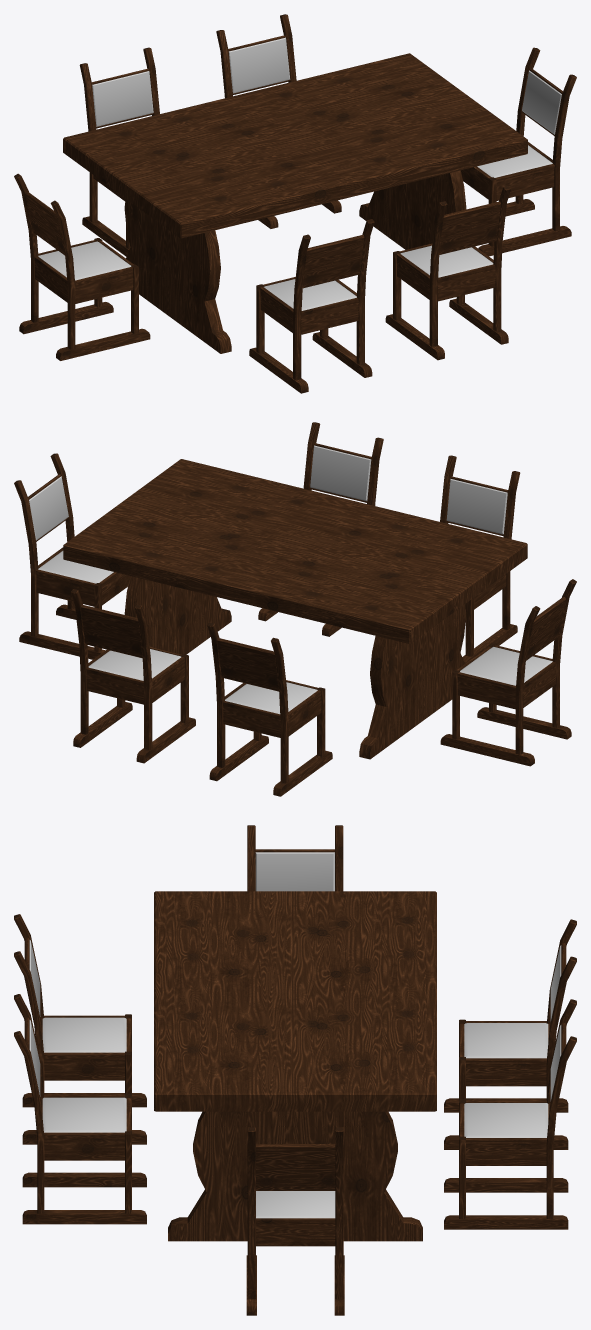
File: Table.fbx
3 renders of one model, top to bottom at view 1: azimuth 30°, elevation 25°; view 2: azimuth 150°, elevation 25°; view 3: azimuth 270°, elevation 25°, orthographic. The views are drawn at different scales.
Visible parts, largest first — view 1: Стол, Стул, Стул.001, Стул.004, Стул.005, Стул.003, Стул.002; view 2: Стол, Стул.003, Стул.002, Стул.004, Стул.005, Стул, Стул.001; view 3: Стол, Стул.001, Стул.002, Стул.005, Стул, Стул.003, Стул.004.
Part boxes in pixels (x1,y1,x2,y2): Стол: (63, 53, 527, 353); Стул: (249, 219, 374, 393); Стул.001: (385, 185, 510, 360); Стул.004: (14, 173, 150, 360); Стул.005: (461, 47, 576, 256); Стул.003: (79, 47, 159, 256); Стул.002: (216, 14, 341, 228); Стол: (63, 459, 527, 759); Стул.003: (207, 622, 332, 796); Стул.002: (71, 589, 195, 763); Стул.004: (440, 579, 576, 766); Стул.005: (14, 453, 130, 659); Стул: (440, 455, 520, 663); Стул.001: (258, 422, 383, 636); Стол: (154, 891, 436, 1241); Стул.001: (14, 994, 146, 1224); Стул.002: (444, 999, 576, 1229); Стул.005: (246, 1127, 344, 1315); Стул: (14, 914, 146, 1144); Стул.003: (444, 919, 576, 1149); Стул.004: (247, 825, 343, 891).
Size of the model in its own units: 234 by 301 by 87.19.
